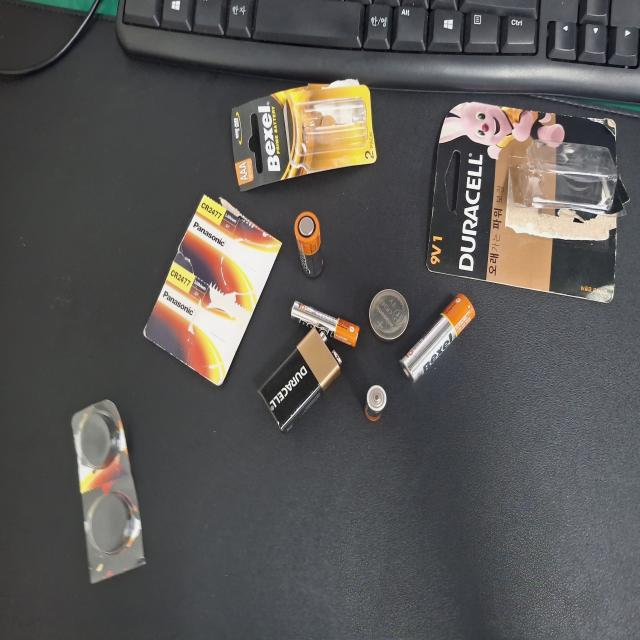9V: (156, 344, 234, 454)
AA: (193, 533, 260, 633), (272, 393, 322, 431)
AAA: (220, 387, 254, 479), (165, 488, 191, 516)
COIN: (225, 492, 263, 544)
